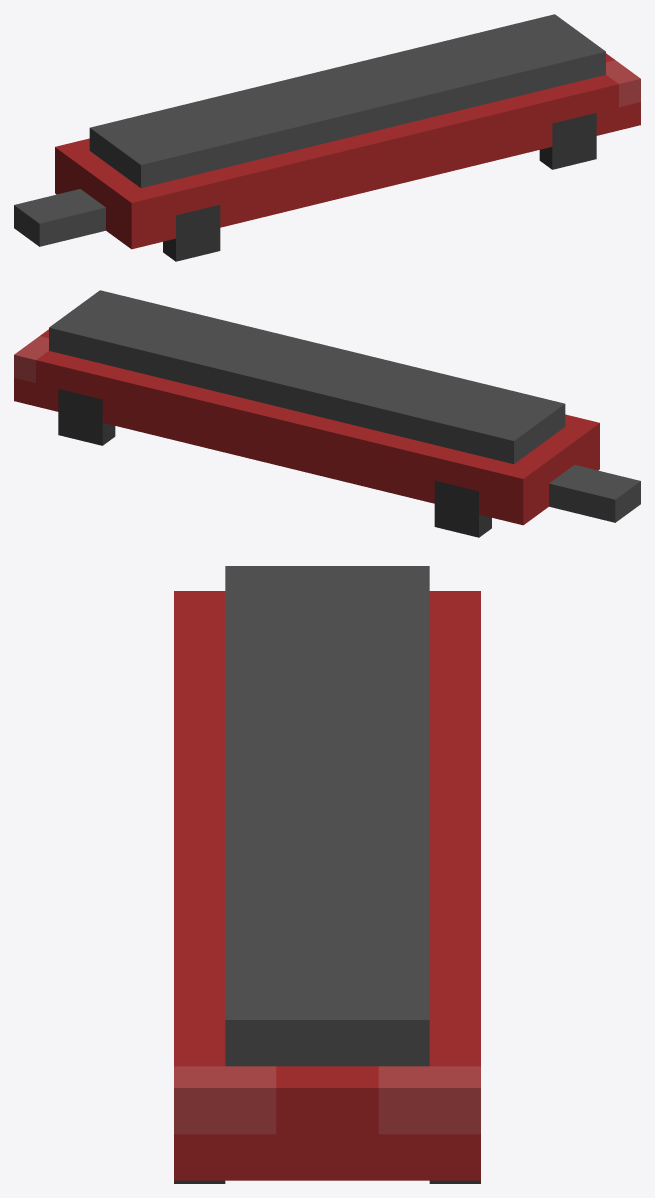
Rendered from truck-trailer-v2-red.gltf.
3 renders of one model, top to bottom at view 1: azimuth 30°, elevation 25°; view 2: azimuth 150°, elevation 25°; view 3: azimuth 270°, elevation 25°, orthographic. The views are drawn at different scales.
Visible parts, largest first — view 1: model, wheels; view 2: model, wheels; view 3: model.
Boxes of the visible parts, x1,y1,x2,y2 form: model: (14, 14, 640, 249); wheels: (163, 113, 596, 261); model: (14, 290, 640, 525); wheels: (58, 389, 491, 537); model: (174, 566, 480, 1180).
Size of the model in its own units: 2.6 by 0.4 by 0.6.
2 materials, 2 textured.
